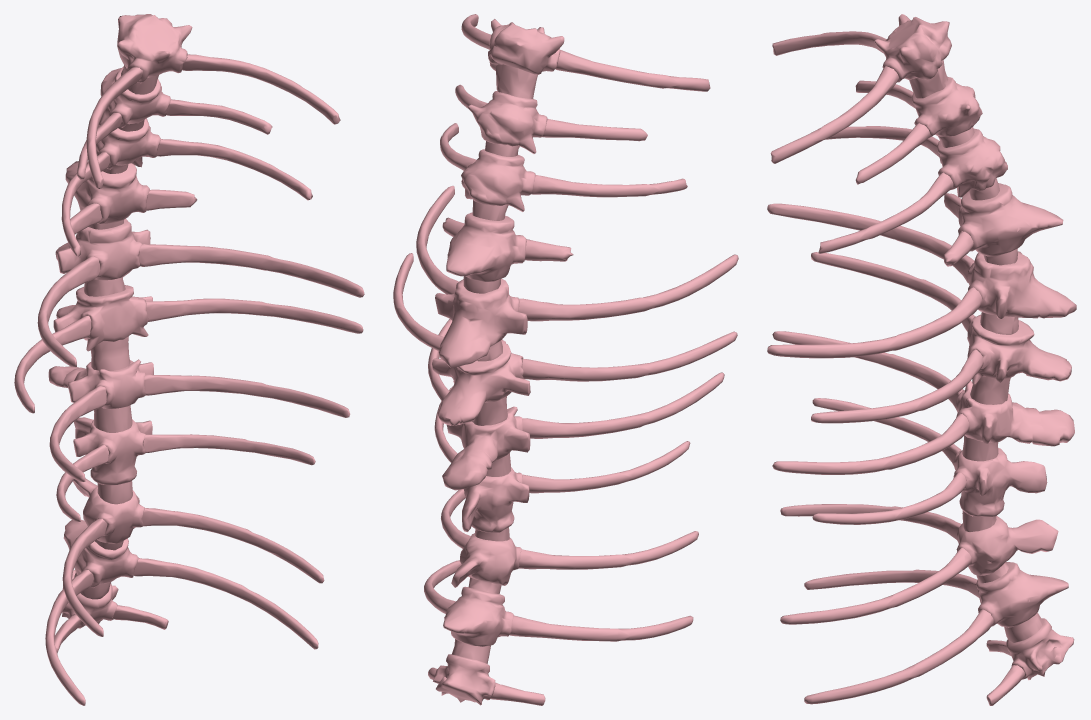
The model's file is Bone_001.FBX.
3 renders of one model, left to right at view 1: azimuth 30°, elevation 25°; view 2: azimuth 150°, elevation 25°; view 3: azimuth 270°, elevation 25°, orthographic. The views are drawn at different scales.
Parts seen in each view (by area): view 1: Bone_001_LOD0; view 2: Bone_001_LOD0; view 3: Bone_001_LOD0.
Boxes of the visible parts, box(x1,y1,x2,y2) form: Bone_001_LOD0: box(14, 14, 364, 705); Bone_001_LOD0: box(393, 14, 738, 705); Bone_001_LOD0: box(767, 14, 1076, 705).
Size of the model in its own units: 349 by 278 by 652.
